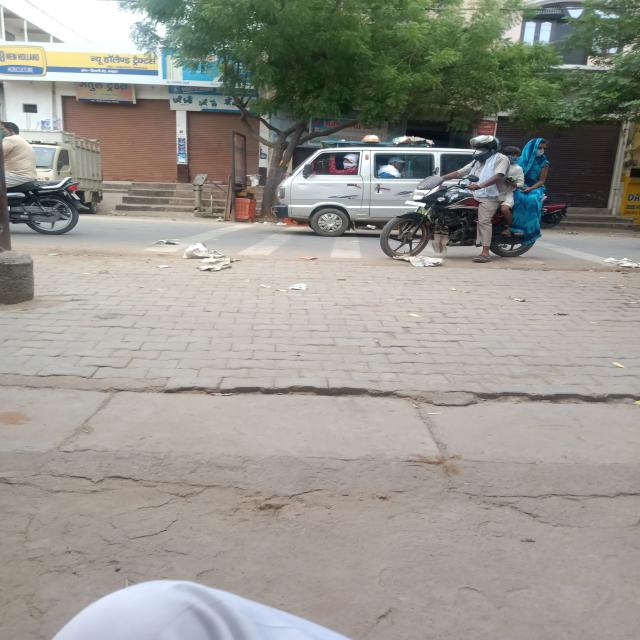Car: (273, 145, 472, 235)
Two Wheeler: (380, 176, 478, 258), (7, 178, 82, 234), (492, 212, 532, 258), (542, 202, 567, 228)
